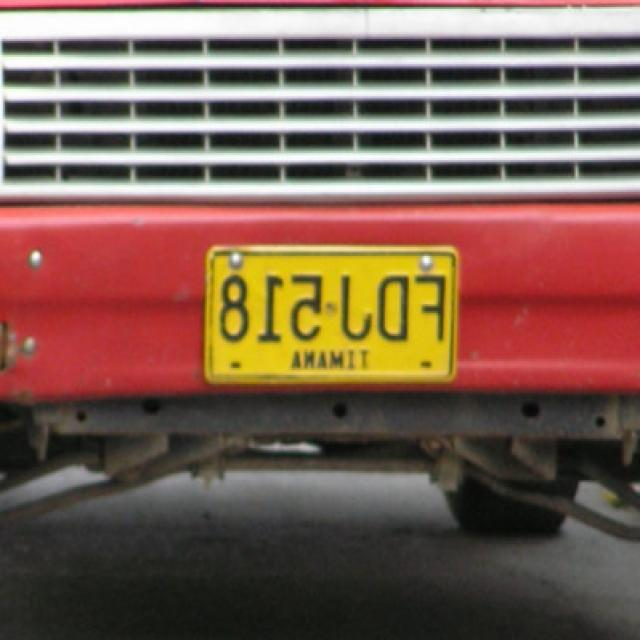placas: (210, 269, 451, 349)
